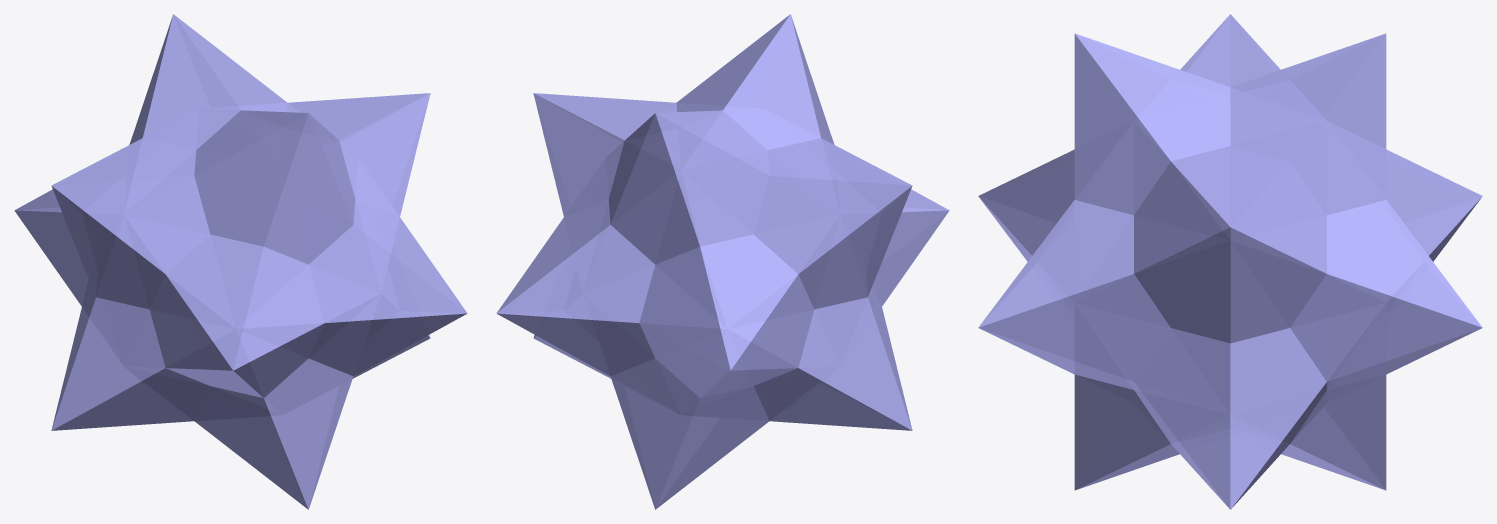
File: MedialRhombicTriacontahedron.obj
3 renders of one model, left to right at view 1: azimuth 30°, elevation 25°; view 2: azimuth 150°, elevation 25°; view 3: azimuth 270°, elevation 25°, orthographic. The views are drawn at different scales.
Bounding box in the file's own units: 2.43 × 2.43 × 2.43.
